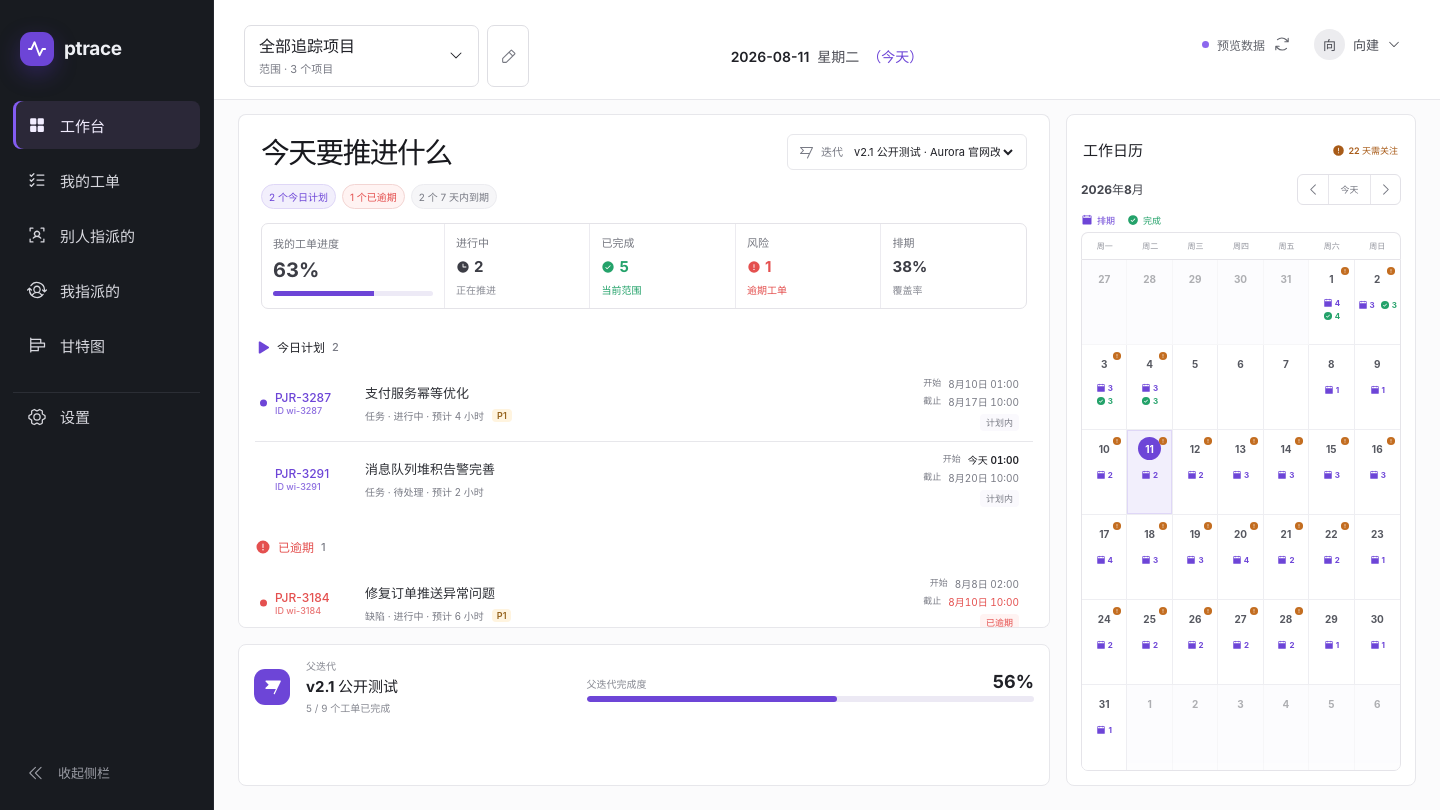
Test: PtraceDesk core interactions › shows all assigned workitems with status and type filters
Click the button "我的工单".
click(106, 180)  # box [13,156,200,204]
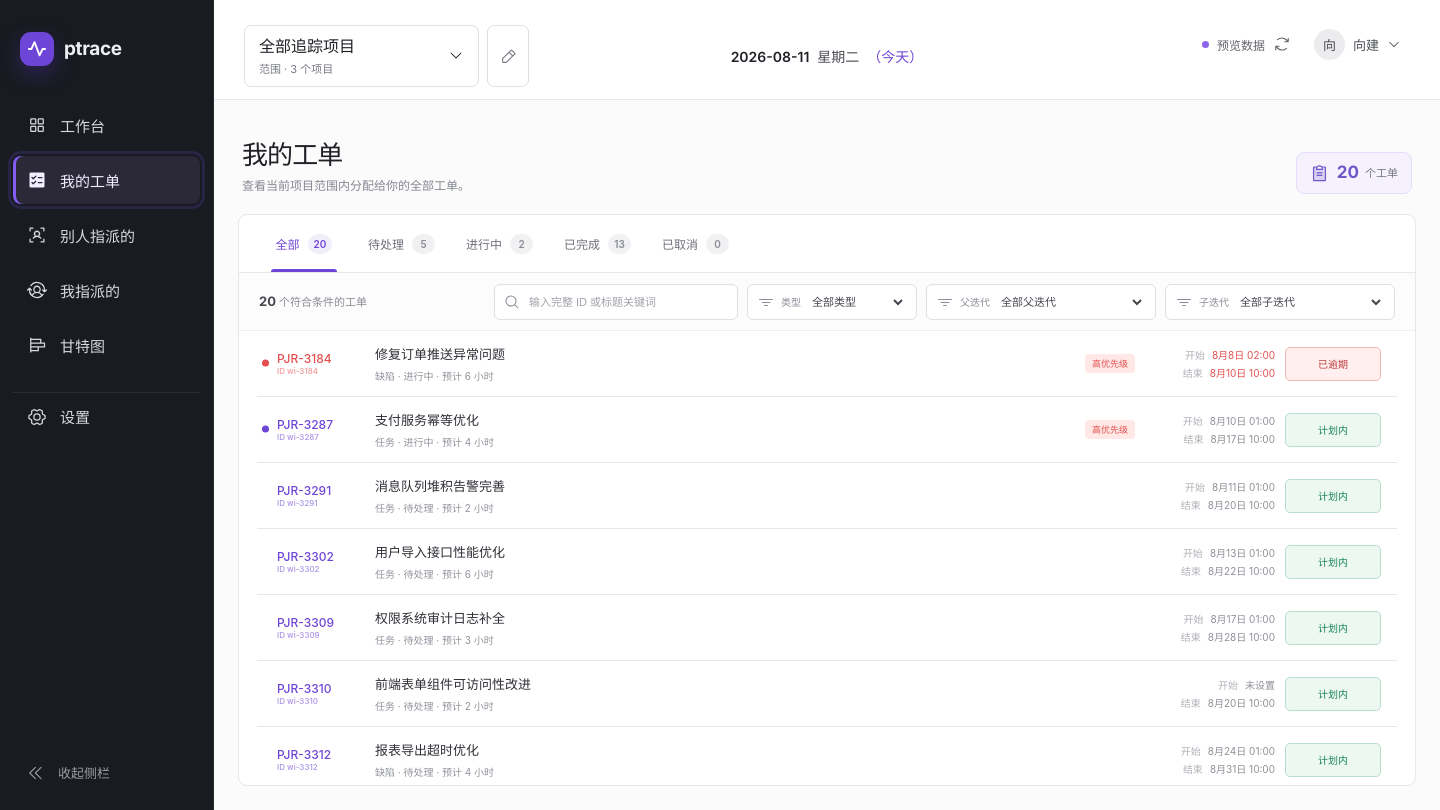
Expected: the heading "我的工单" is shown, [242,140,342,171]
Result: the tab "全部 20" is shown at [258,215,350,272]
Click the tab "已完成 13".
click(598, 244)  # box [551,215,644,272]
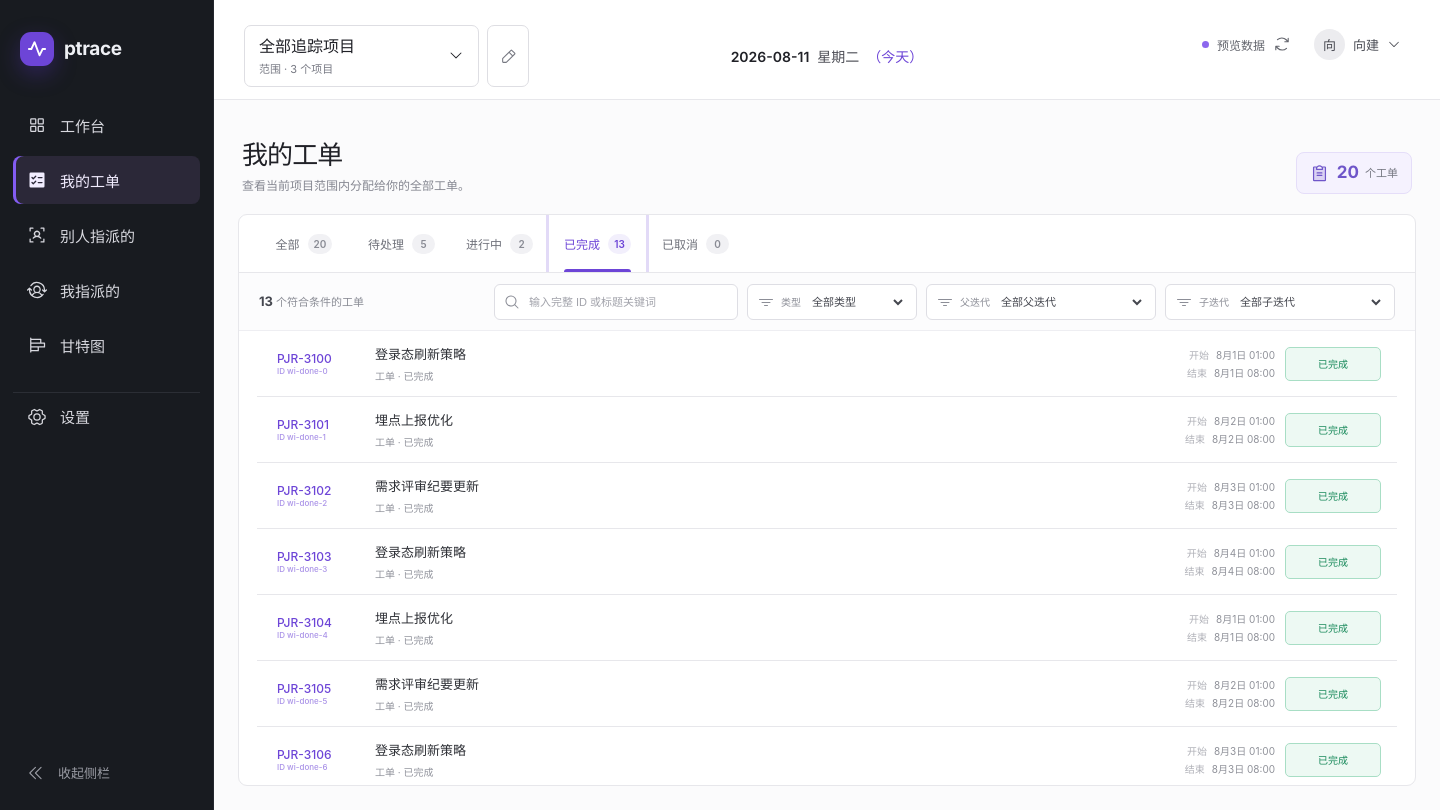
Result: the 1st text "登录态刷新策略" is shown at [375,346,466,362]
Result: the button "支付服务幂等优化" is gone
Click the tab "全部 20".
click(304, 244)  # box [258,215,350,272]
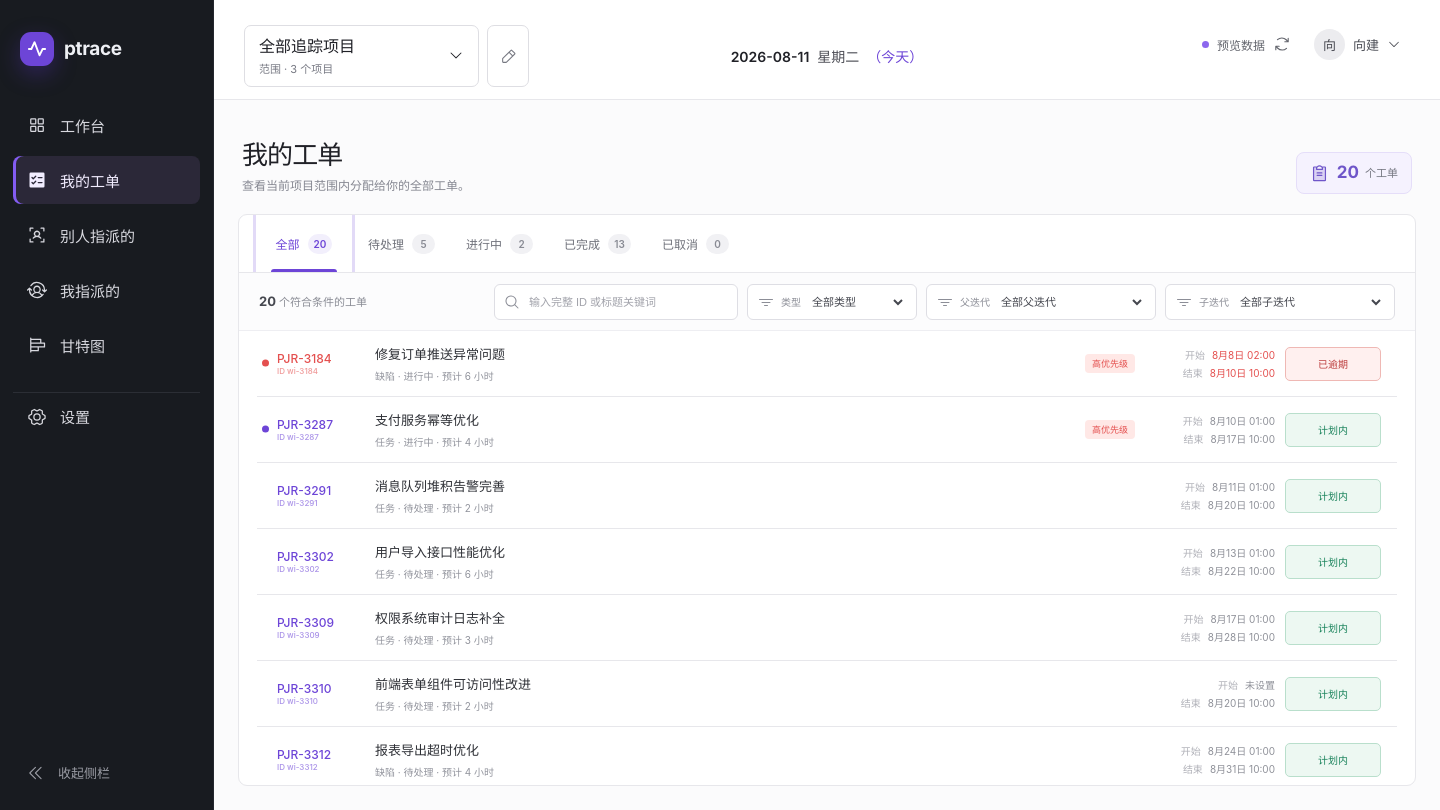
Select "缺陷" in the dropdown named "工单类型" at x=857, y=302, box [808,294,906,310]
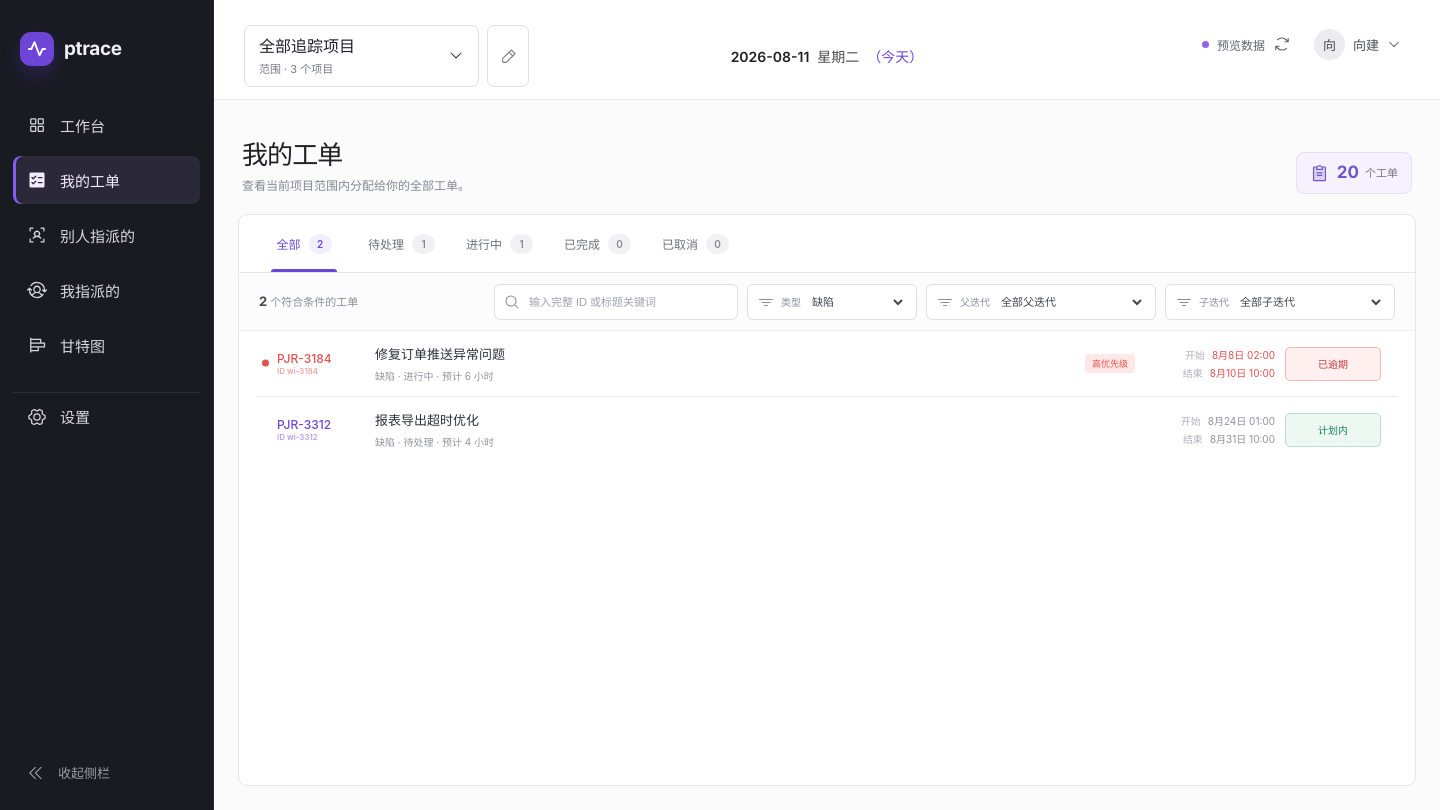
Result: the text "修复订单推送异常问题" is shown at [375,346,505,362]
Result: the text "报表导出超时优化" is shown at [375,412,479,428]
Result: the button "支付服务幂等优化" is gone
Click the button "工作台".
click(106, 125)  # box [13,101,200,149]
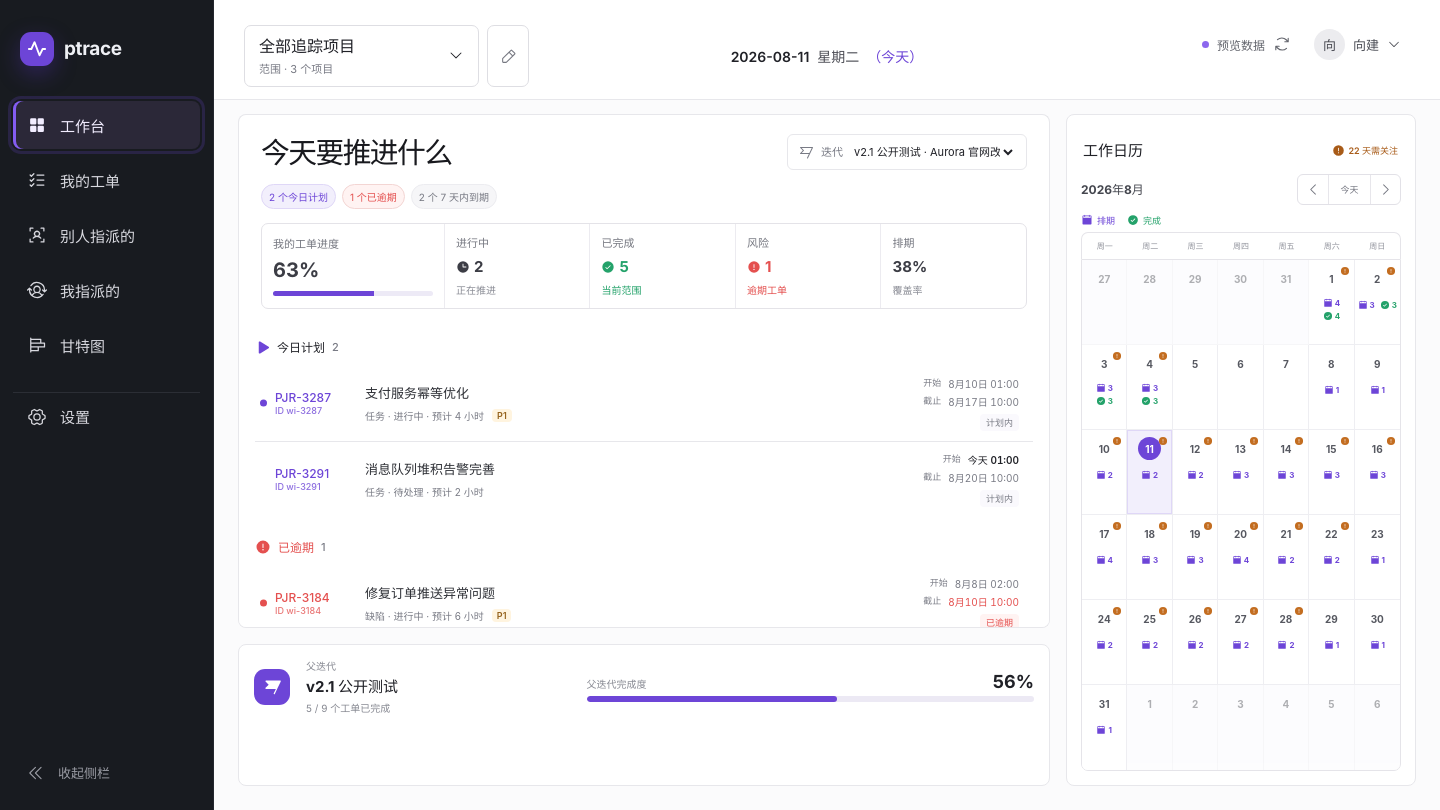
Result: the heading "今天要推进什么" is shown at [261,131,452,172]
